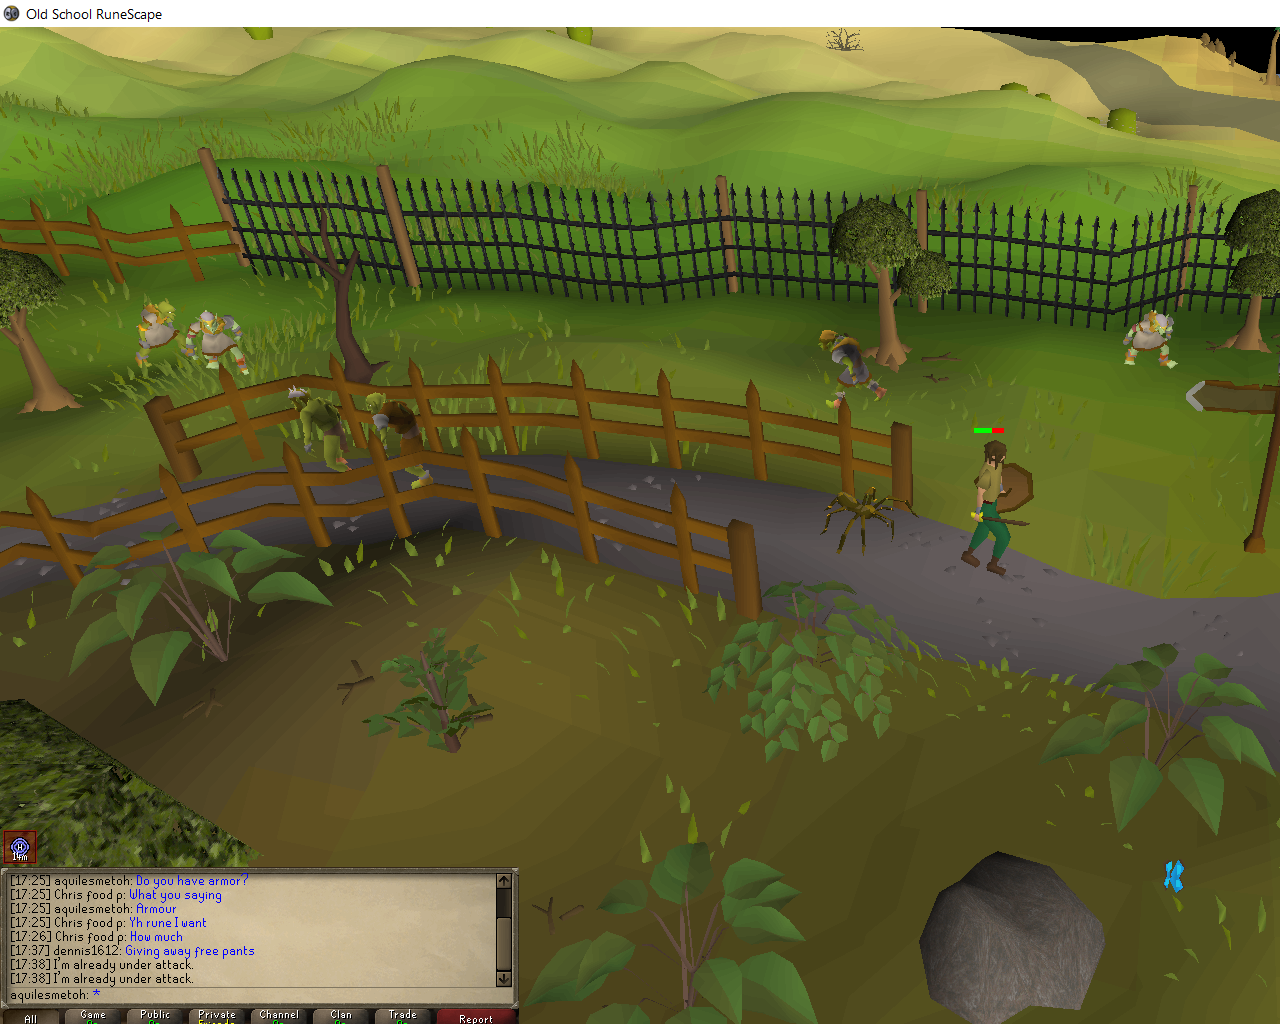Goblin: (359, 395, 448, 489), (290, 385, 362, 481), (813, 331, 886, 413), (184, 309, 251, 379), (130, 296, 189, 374), (1125, 304, 1178, 370)
